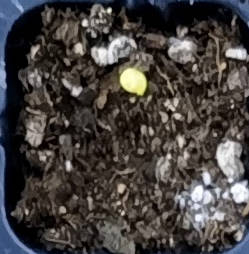pepper seed: (46, 20, 193, 118)
